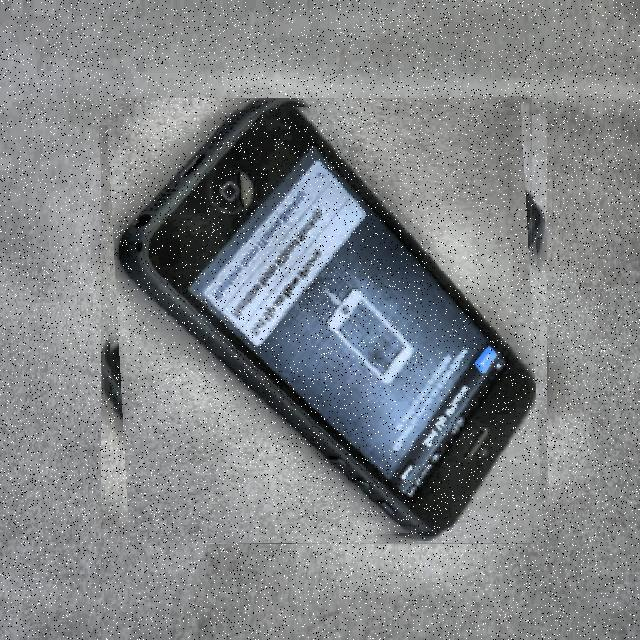Phone: (104, 101, 545, 542)
